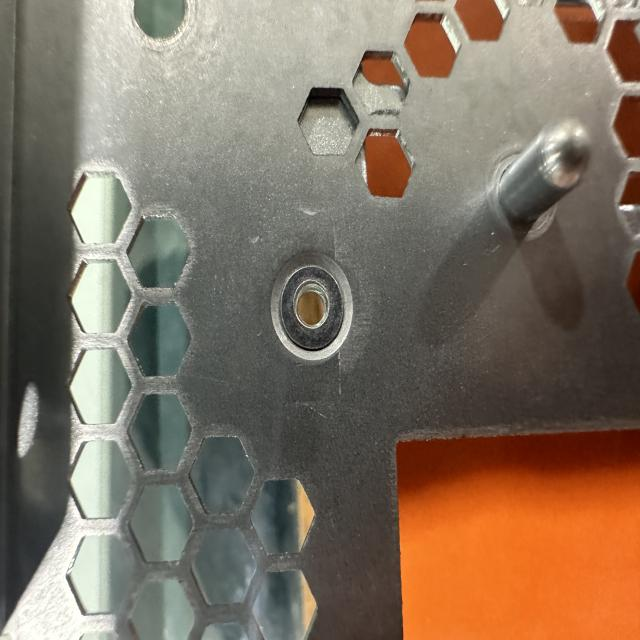Missing screw: (262, 244, 362, 368)
